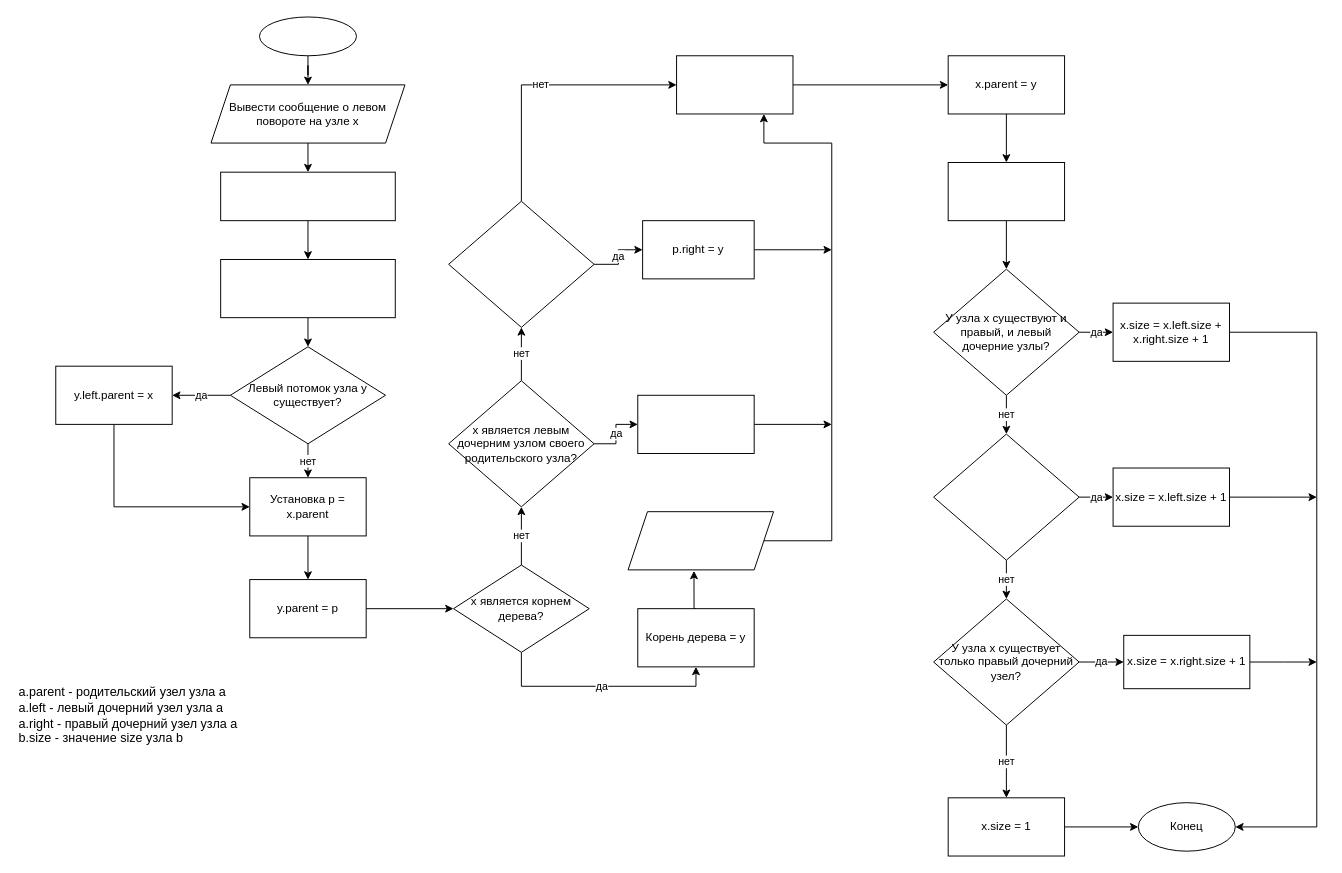
This 1342x873 diagram has some shape labels left out. The centre of each missing label's shape, as x and y in pixels:
p.left = y: point 695,423
y.left = х: point 734,84
y.size = x.size: point 1006,191
Вывод сообщения о новом корне: point 700,540
Начало: point 307,36
Превращение левого поддерева y в правое поддерево x: point 307,288
У узла х существует только левый дочерний узел?: point 1006,496
Установка y = x.right: point 307,196
х является правым дочерним узлом своего родительского узла?: point 521,263
